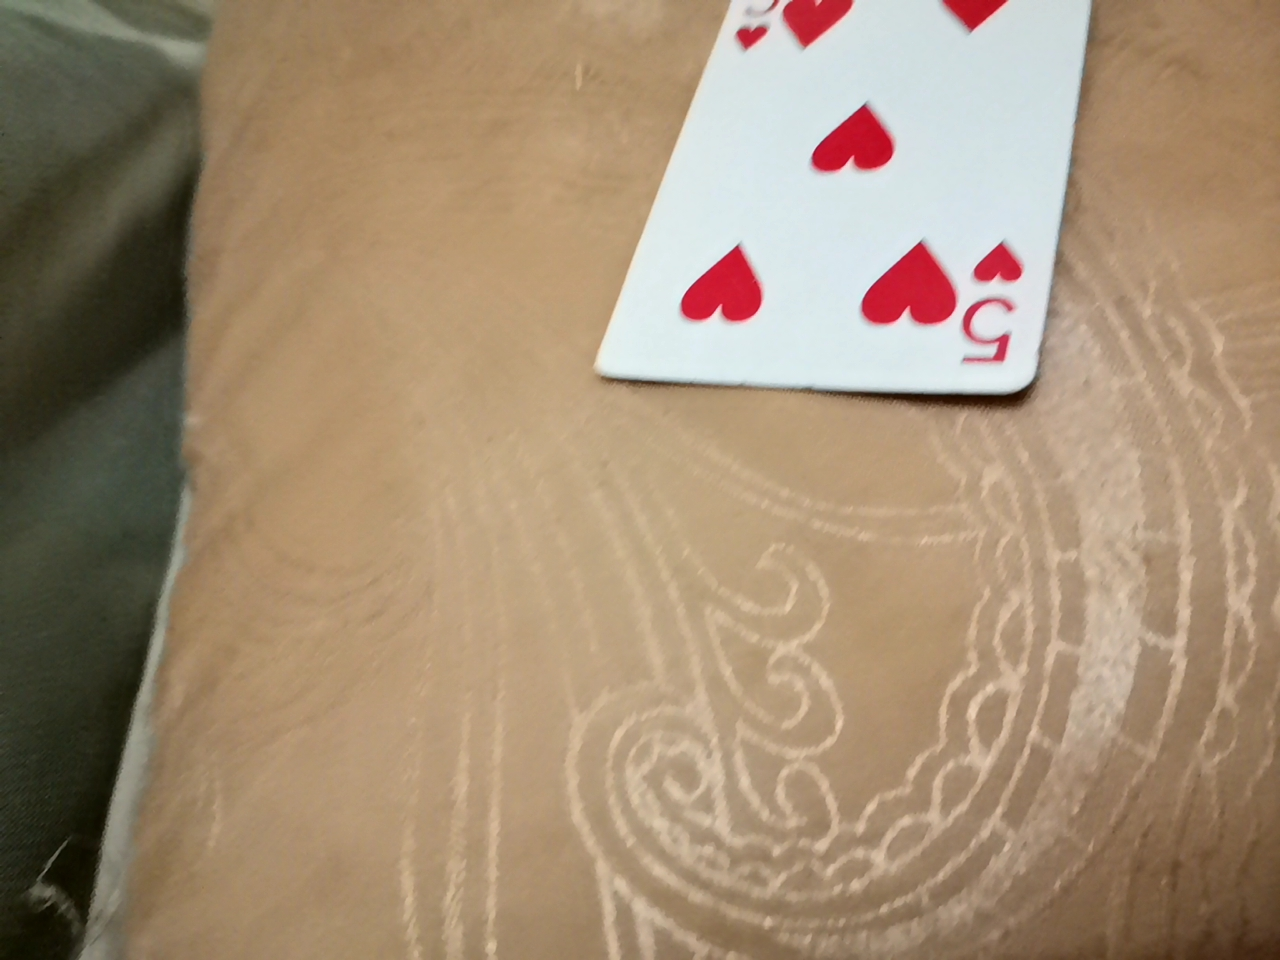hx 5: (538, 35, 1030, 499)
